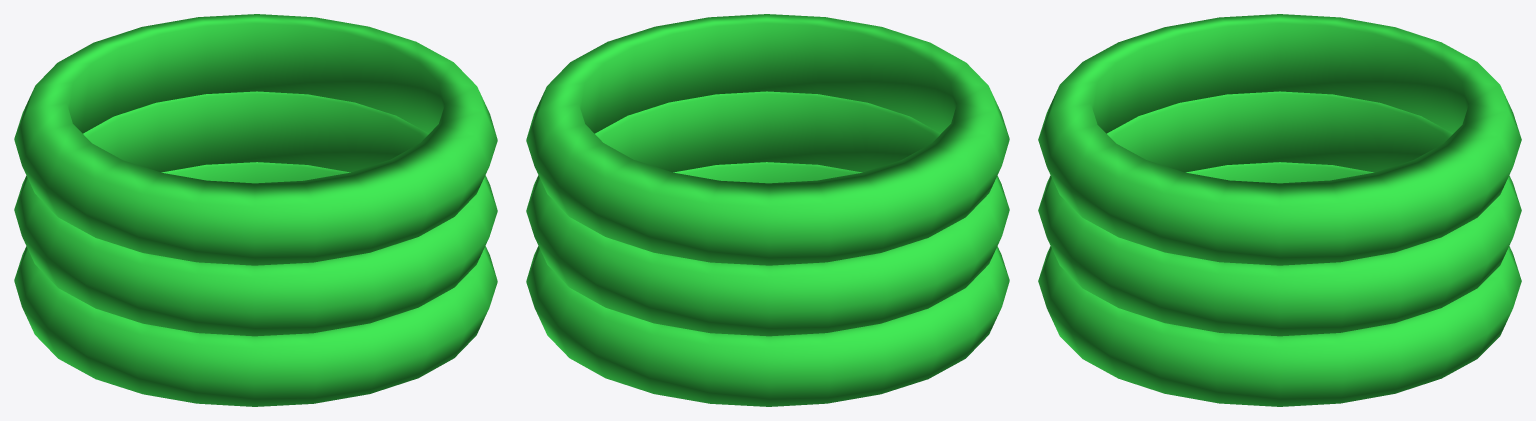
Rendered from threed  - 1 (1).fbx.
3 views of the same model, side by side, from view 1: azimuth 30°, elevation 25°; view 2: azimuth 150°, elevation 25°; view 3: azimuth 270°, elevation 25° (orthographic).
Visible parts, largest first — view 1: polySurface5; view 2: polySurface5; view 3: polySurface5.
Part boxes in pixels (<box>): polySurface5: <box>14,14,497,406</box>; polySurface5: <box>526,14,1009,406</box>; polySurface5: <box>1038,14,1521,406</box>.
Size of the model in its own units: 243 by 119 by 243.
